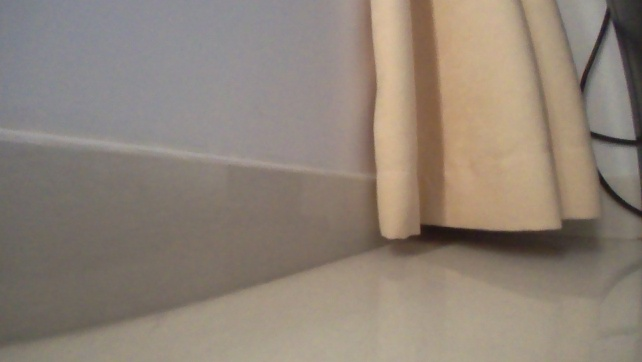wire: (575, 0, 641, 218)
